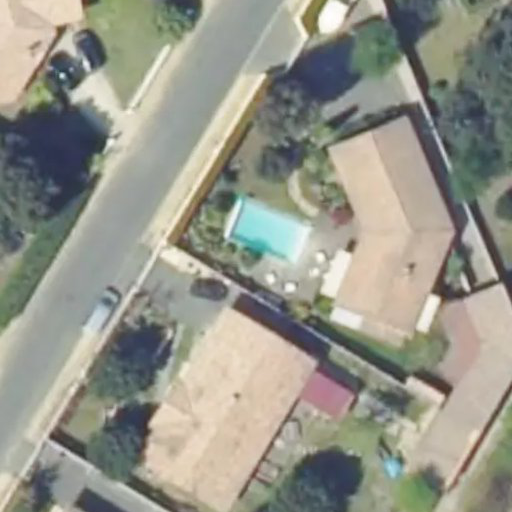pool: (230, 201, 309, 265)
